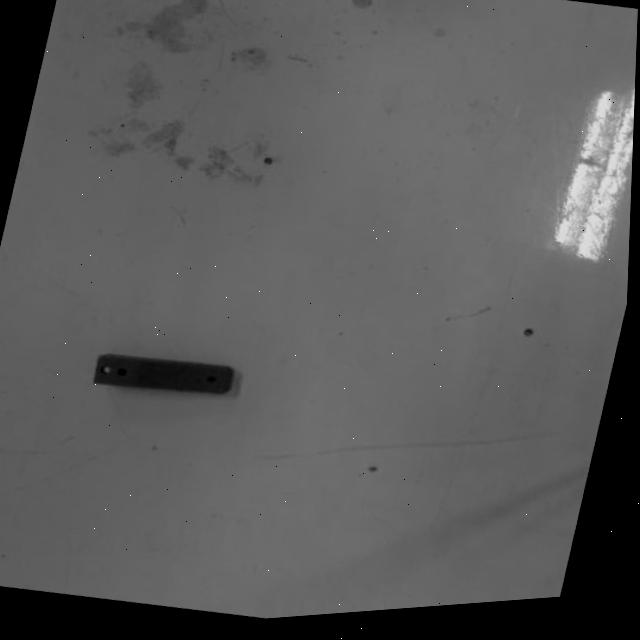grey: (86, 335, 237, 415)
head: (197, 369, 219, 388)
